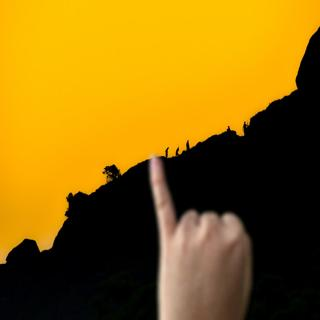Fine: (138, 151, 263, 315)
